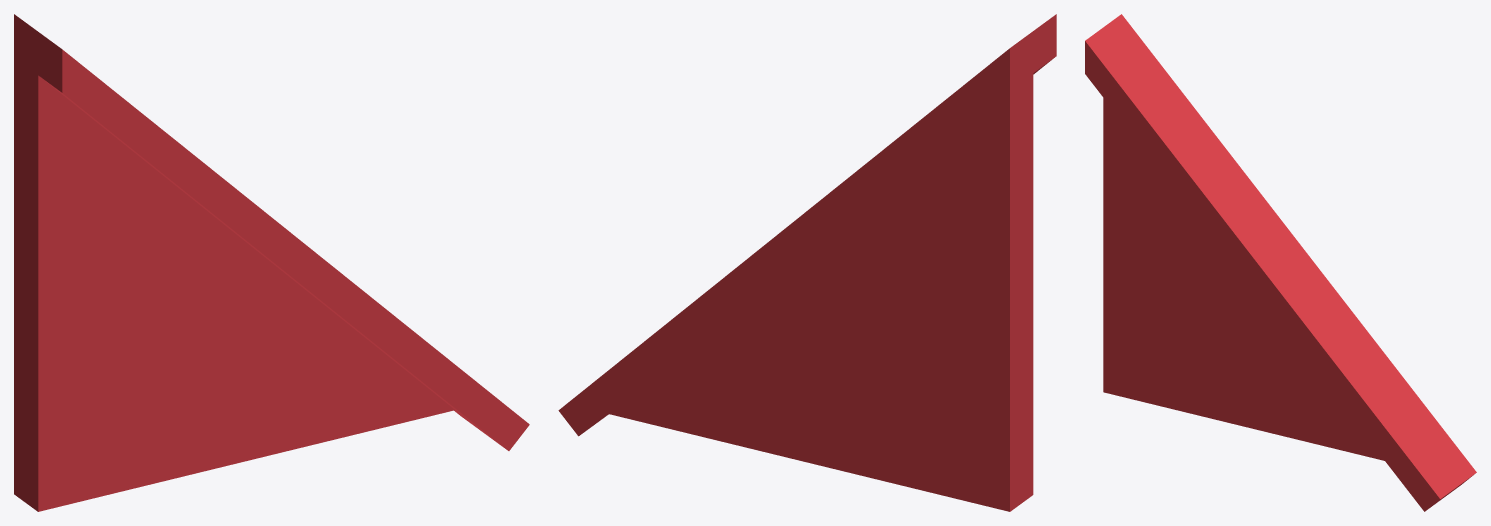
File: roof_gable_corner_roof.glb
The picture shows the model from 3 angles, left to right: view 1: azimuth 30°, elevation 25°; view 2: azimuth 150°, elevation 25°; view 3: azimuth 330°, elevation 25°; orthographic projection. The views are drawn at different scales.
Visible parts, largest first — view 1: roof_gable_corner_roof; view 2: roof_gable_corner_roof; view 3: roof_gable_corner_roof.
Boxes of the visible parts, bbox=[...] form: roof_gable_corner_roof: bbox=[14, 14, 529, 511]; roof_gable_corner_roof: bbox=[558, 14, 1056, 511]; roof_gable_corner_roof: bbox=[1085, 14, 1476, 511].
Size of the model in its own units: 1.12 by 1.17 by 0.2.
